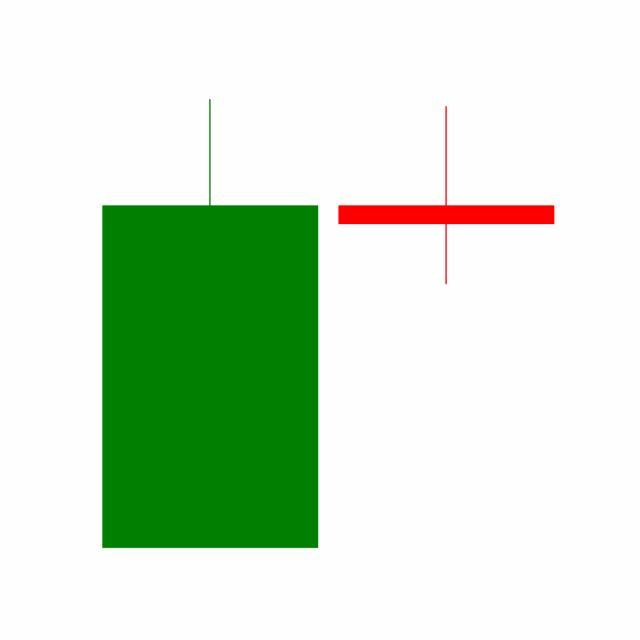Spinning Top: (328, 105, 566, 288)
